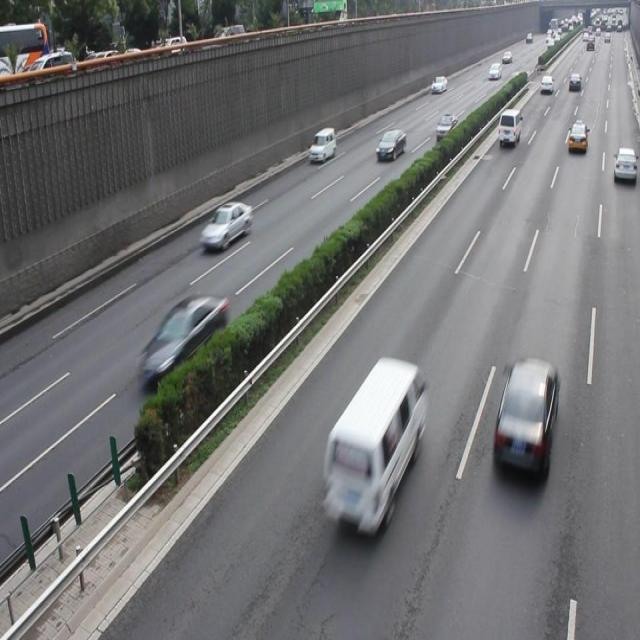car: (491, 356, 559, 484), (139, 293, 226, 385), (199, 200, 252, 249), (612, 146, 640, 182)
truck: (322, 354, 425, 538)
